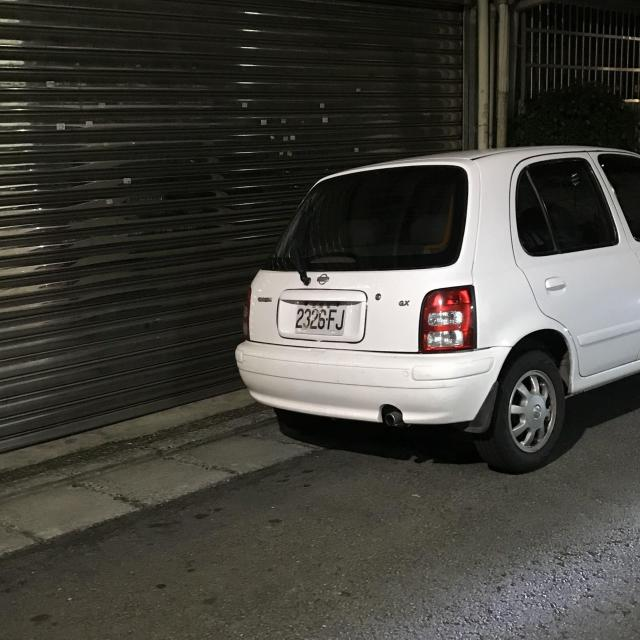W: (288, 297, 354, 339)
